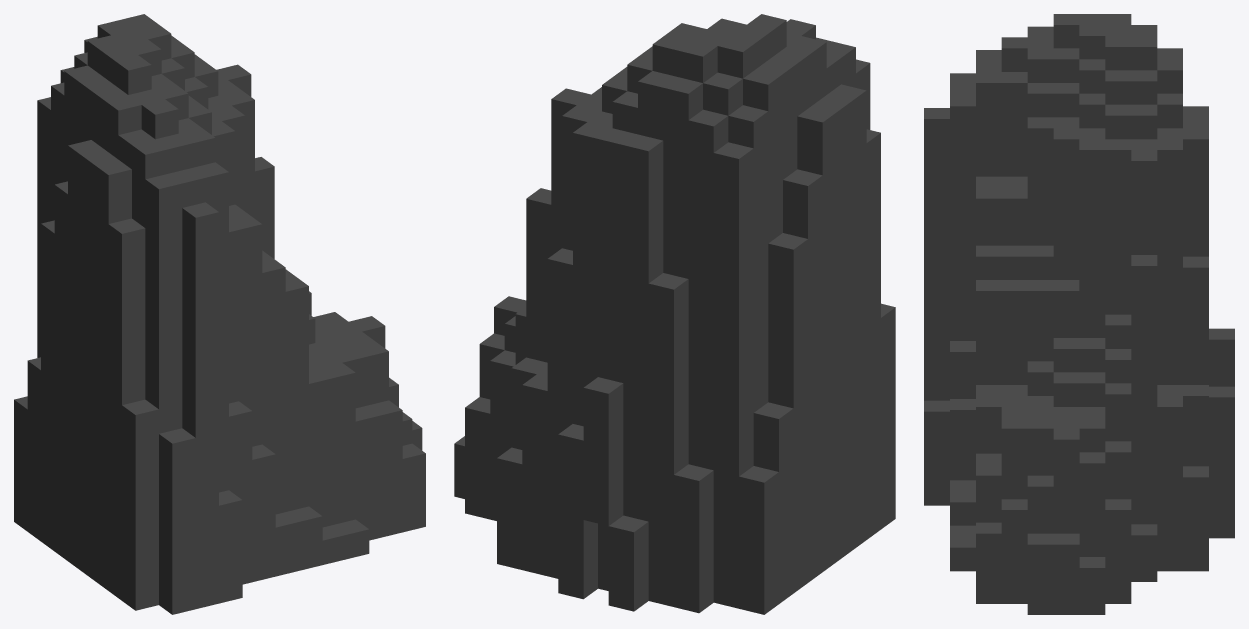
File: Stone3.obj
3 views of the same model, side by side, from view 1: azimuth 30°, elevation 25°; view 2: azimuth 150°, elevation 25°; view 3: azimuth 270°, elevation 25° (orthographic). The views are drawn at different scales.
Bounding box in the file's own units: 1.4 × 2 × 1.2.
1 material, 1 textured.
